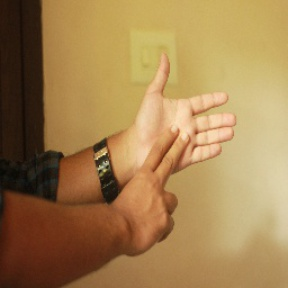N: (108, 50, 241, 247)
